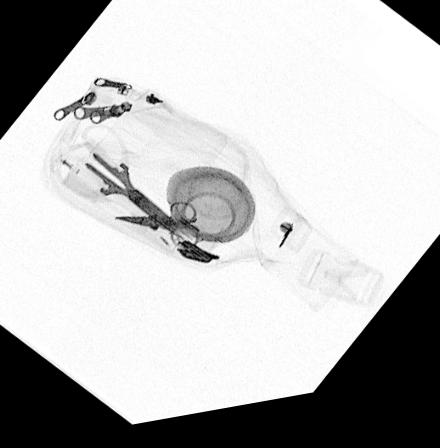Scissors: (49, 122, 193, 246), (110, 202, 201, 255)
